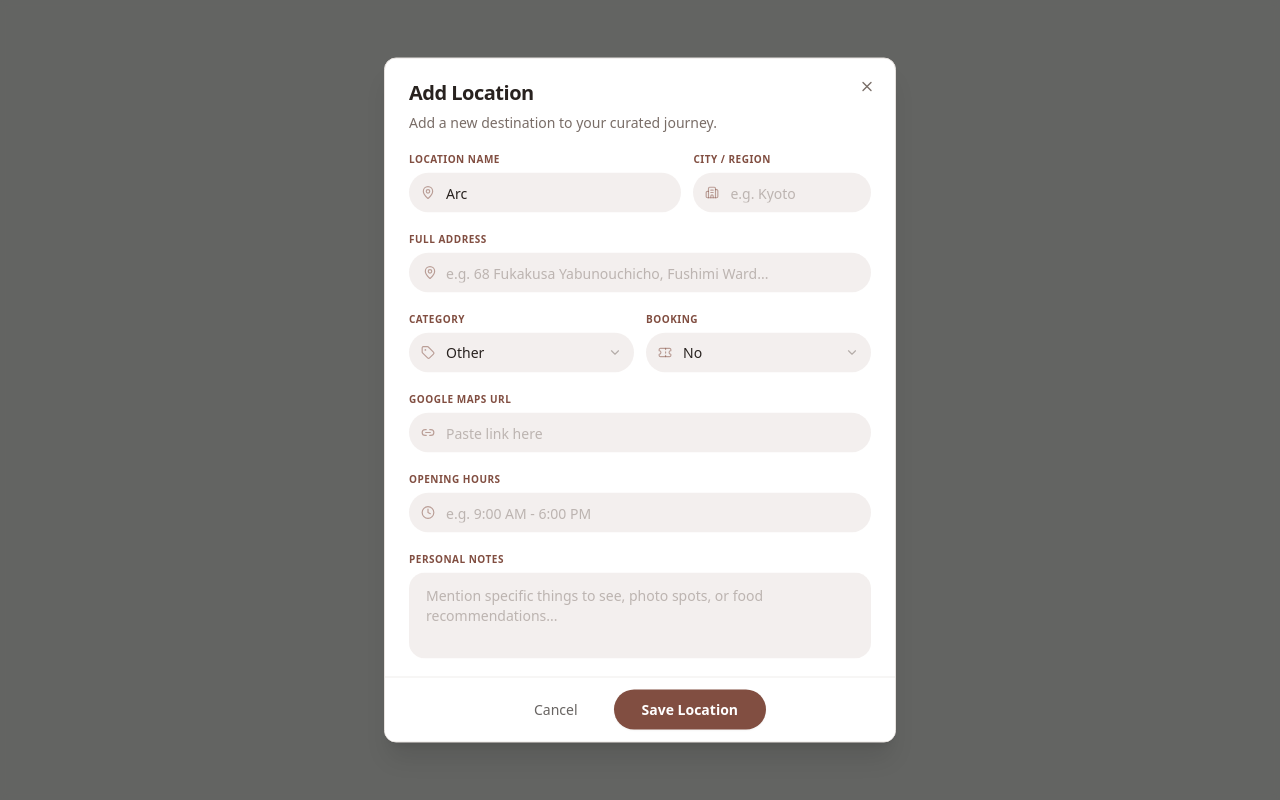
Test case: AddLocationForm › allows the user to continue editing the seeded name
Type " de Triomphe" into the field labelled "Location name" at (545, 192), box x1=409 y1=172 x2=681 y2=212
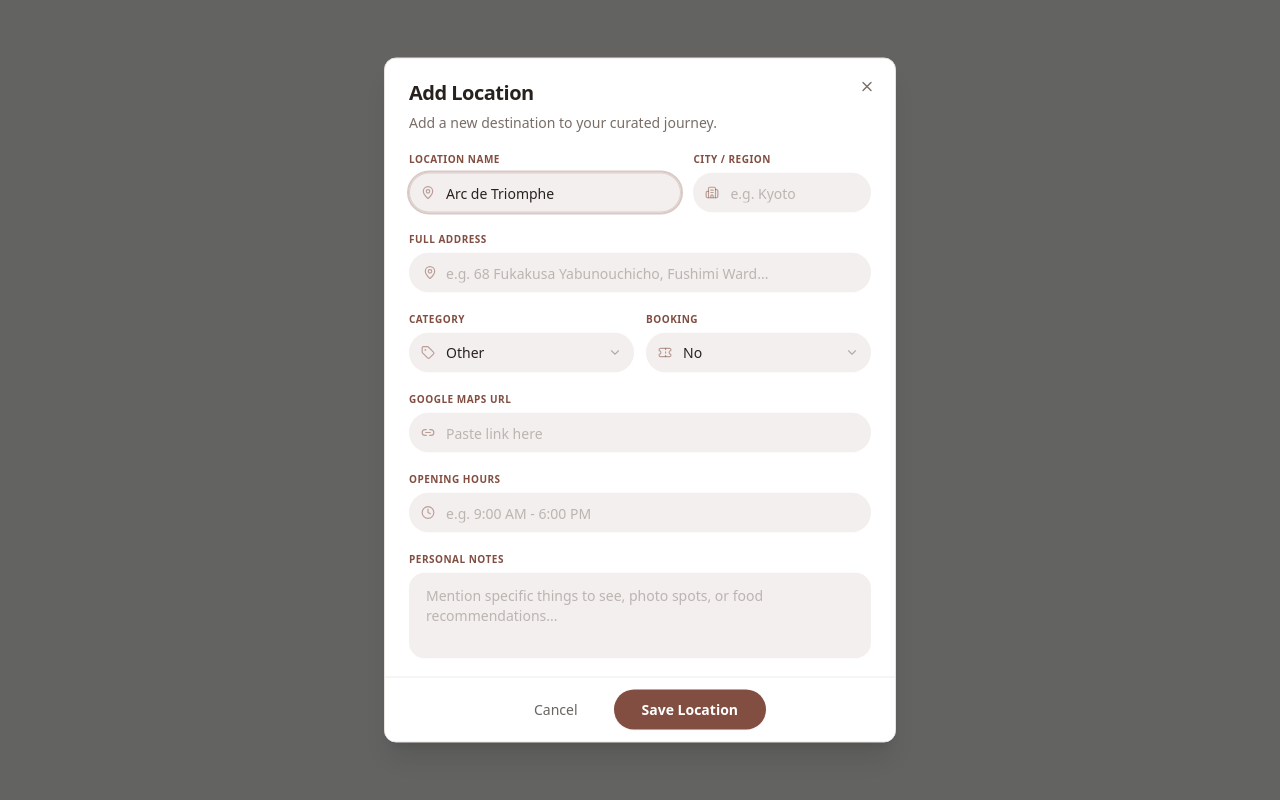
Now the field labelled "Location name" holds "Arc de Triomphe", box x1=409 y1=172 x2=681 y2=212
